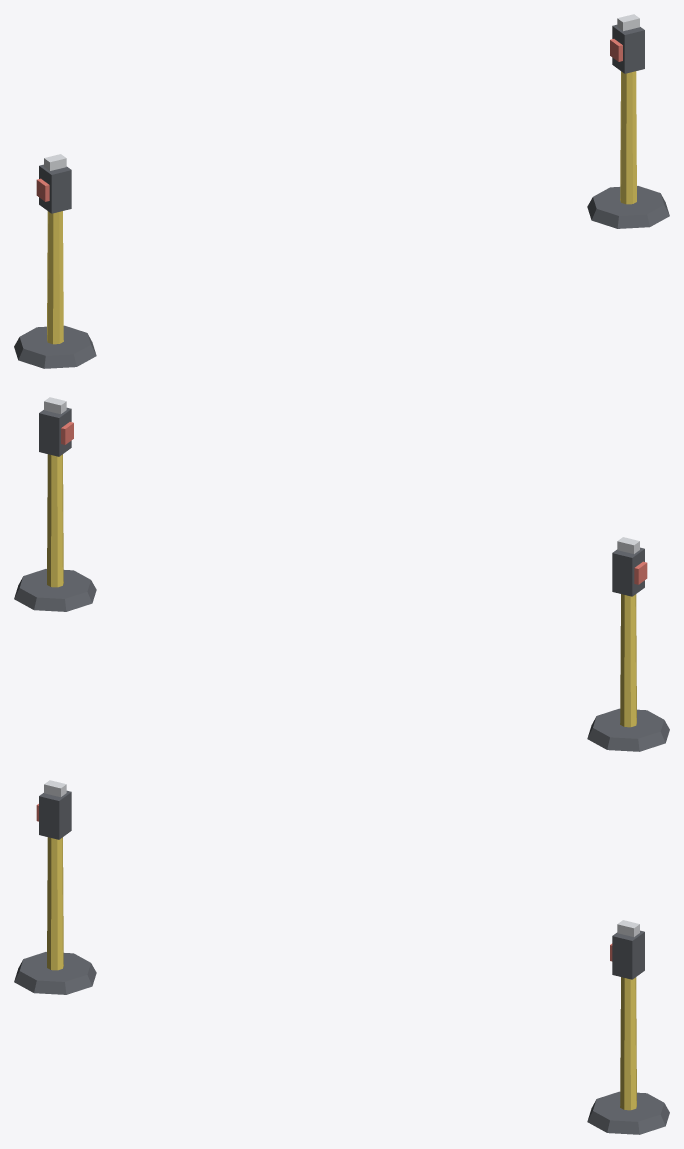
The model's file is dog-agility-and-training-field-timing-gate-pair-5f9f50ed__35603.glb.
3 renders of one model, top to bottom at view 1: azimuth 30°, elevation 25°; view 2: azimuth 150°, elevation 25°; view 3: azimuth 330°, elevation 25°, orthographic.
Visible parts, largest first — view 1: timing-gate-pair-charcoal, timing-gate-pair-sunflower, timing-gate-pair-steel; view 2: timing-gate-pair-charcoal, timing-gate-pair-sunflower, timing-gate-pair-steel; view 3: timing-gate-pair-charcoal, timing-gate-pair-sunflower, timing-gate-pair-steel.
Part boxes in pixels (x1,y1,x2,y2): timing-gate-pair-charcoal: (14,24,669,368); timing-gate-pair-sunflower: (47,71,636,344); timing-gate-pair-steel: (44,14,639,170); timing-gate-pair-charcoal: (14,407,669,751); timing-gate-pair-sunflower: (47,454,636,727); timing-gate-pair-steel: (44,397,639,553); timing-gate-pair-charcoal: (14,790,669,1134); timing-gate-pair-sunflower: (47,837,636,1110); timing-gate-pair-steel: (44,780,639,936).
Size of the model in its own units: 3.84 by 1.09 by 0.4402.
